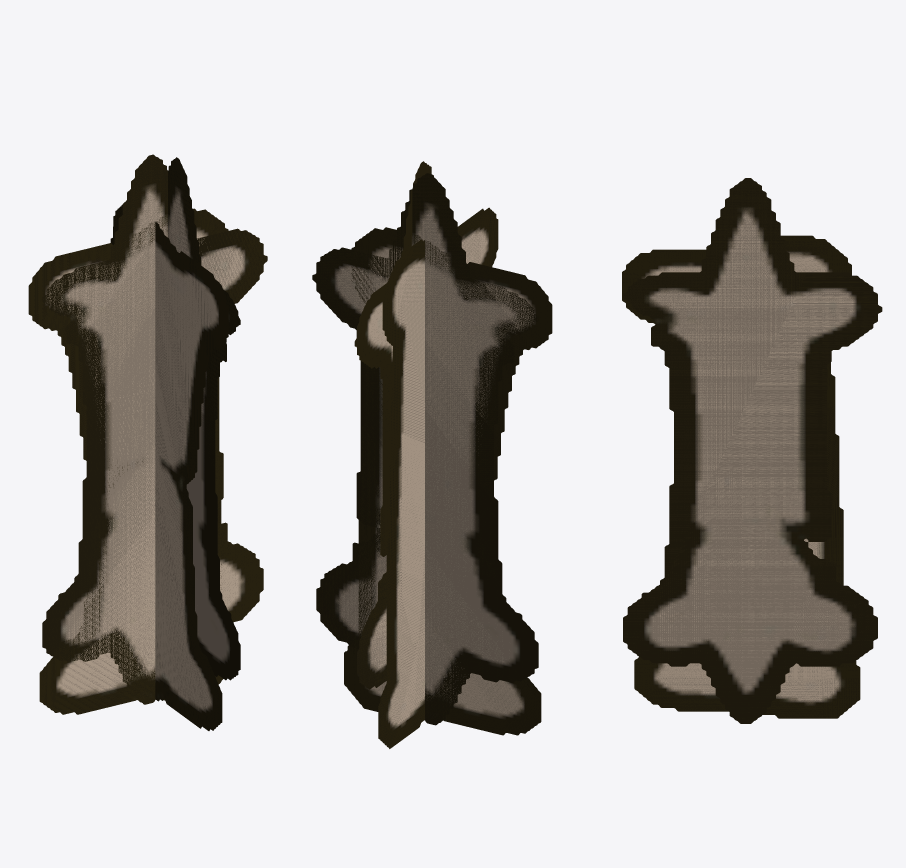
Rendered from c_hone2.tri.dae.
The picture shows the model from 3 angles, left to right: view 1: azimuth 30°, elevation 25°; view 2: azimuth 150°, elevation 25°; view 3: azimuth 270°, elevation 25°; orthographic projection.
Visible parts, largest first — view 1: locator9_pPlane85, locator10_pPlane64, locator9_pPlane86, locator10_pPlane88, locator10_pPlane70, locator9_pPlane84, locator10_pPlane87, locator1_pPlane86, locator9_pPlane83, locator1_pPlane84, locator1_pPlane85; view 2: locator9_pPlane85, locator1_pPlane85, locator10_pPlane88, locator9_pPlane86, locator10_pPlane64, locator10_pPlane70, locator10_pPlane87, locator9_pPlane83, locator9_pPlane84, locator1_pPlane83; view 3: locator9_pPlane84, locator1_pPlane83, locator10_pPlane64, locator10_pPlane70, locator9_pPlane83.
Boxes of the visible parts, left/top/right/bottom form: locator9_pPlane85: left=42, top=155, right=267, bottom=704; locator10_pPlane64: left=113, top=204, right=228, bottom=730; locator9_pPlane86: left=42, top=154, right=267, bottom=704; locator10_pPlane88: left=29, top=208, right=228, bottom=714; locator10_pPlane70: left=113, top=205, right=222, bottom=730; locator9_pPlane84: left=110, top=158, right=240, bottom=680; locator10_pPlane87: left=28, top=209, right=227, bottom=714; locator1_pPlane86: left=46, top=155, right=267, bottom=701; locator9_pPlane83: left=168, top=157, right=240, bottom=651; locator1_pPlane84: left=110, top=159, right=239, bottom=665; locator1_pPlane85: left=42, top=155, right=256, bottom=682; locator9_pPlane85: left=312, top=173, right=538, bottom=725; locator1_pPlane85: left=312, top=175, right=538, bottom=724; locator10_pPlane88: left=344, top=227, right=552, bottom=735; locator9_pPlane86: left=312, top=173, right=538, bottom=724; locator10_pPlane64: left=378, top=207, right=498, bottom=748; locator10_pPlane70: left=378, top=208, right=497, bottom=748; locator10_pPlane87: left=344, top=228, right=551, bottom=734; locator9_pPlane83: left=354, top=161, right=433, bottom=689; locator9_pPlane84: left=356, top=165, right=428, bottom=689; locator1_pPlane83: left=354, top=162, right=431, bottom=683; locator9_pPlane84: left=623, top=178, right=882, bottom=723; locator1_pPlane83: left=623, top=178, right=882, bottom=723; locator10_pPlane64: left=622, top=235, right=860, bottom=718; locator10_pPlane70: left=622, top=235, right=860, bottom=718; locator9_pPlane83: left=624, top=178, right=881, bottom=664.
Size of the model in its own units: 11.58 by 30.94 by 11.41.
2 materials, 2 textured.
